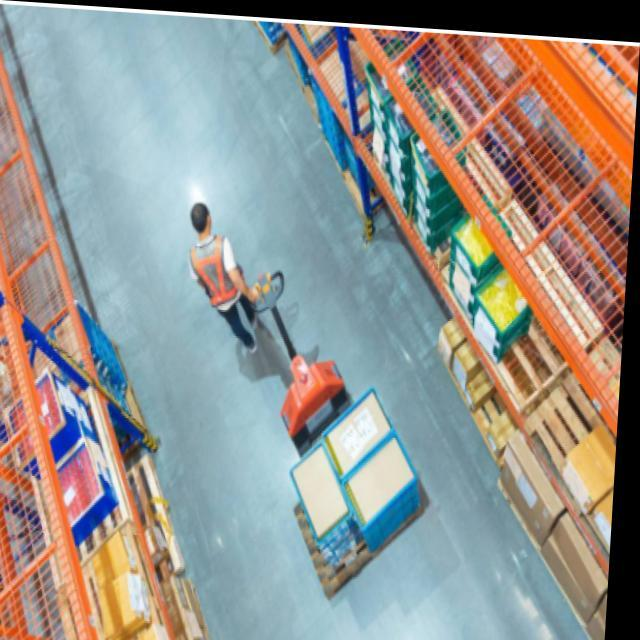vest: (185, 230, 254, 315)
